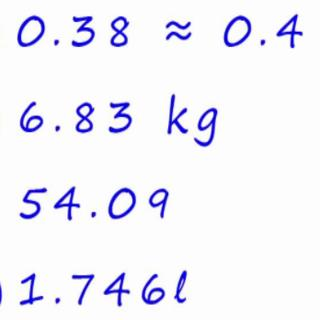.: (52, 123, 62, 133), (88, 209, 98, 219), (52, 35, 61, 46), (53, 295, 61, 306), (259, 37, 267, 47)
0: (15, 14, 47, 49), (106, 186, 137, 222), (222, 14, 252, 49)
1: (19, 272, 44, 306)
3: (106, 99, 133, 136), (71, 14, 95, 49)
4: (52, 185, 81, 222), (275, 13, 304, 49), (103, 272, 132, 307)
5: (18, 187, 48, 221)
6: (18, 100, 45, 134), (141, 273, 167, 305)
7: (68, 274, 96, 306)
8: (108, 16, 131, 47), (75, 101, 94, 136)
9: (147, 187, 172, 219)
